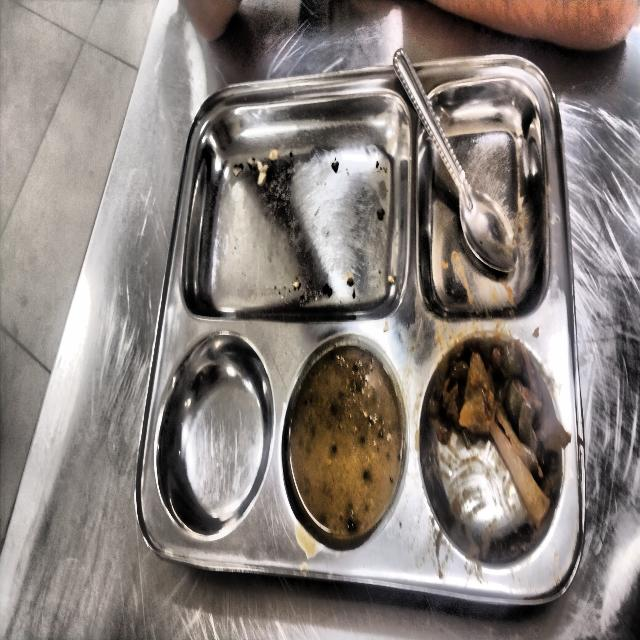Chilli-paneer: (289, 346, 405, 545)
Daal-pulse: (443, 365, 550, 527)
Gulab-jamun: (179, 71, 415, 321)
